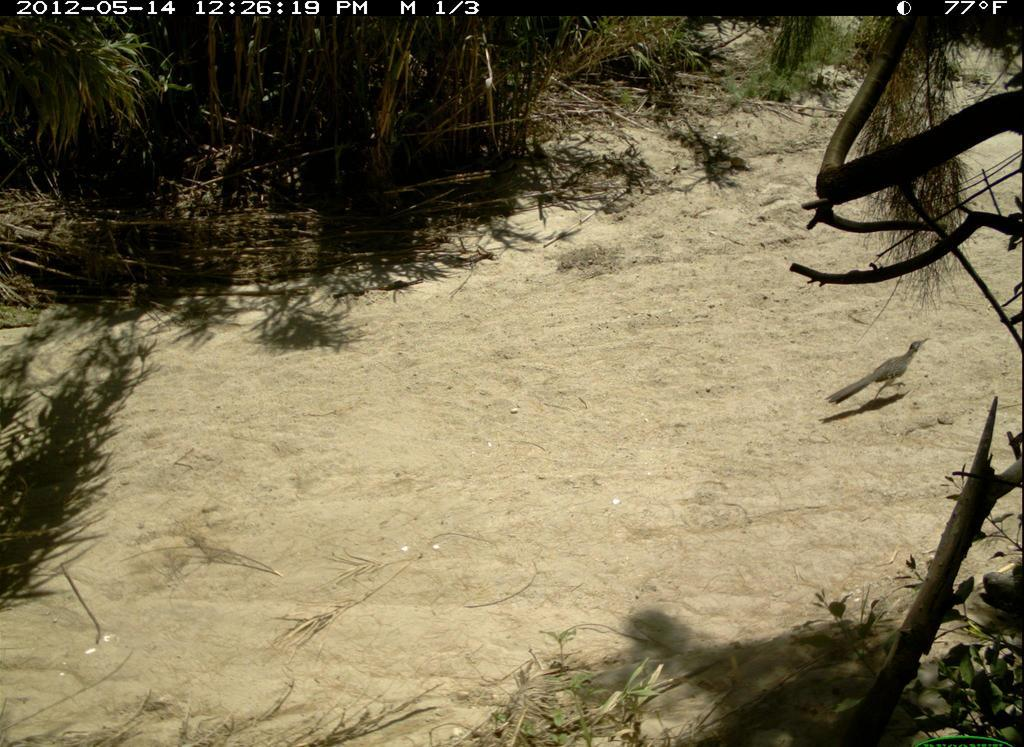bird: (821, 333, 932, 418)
